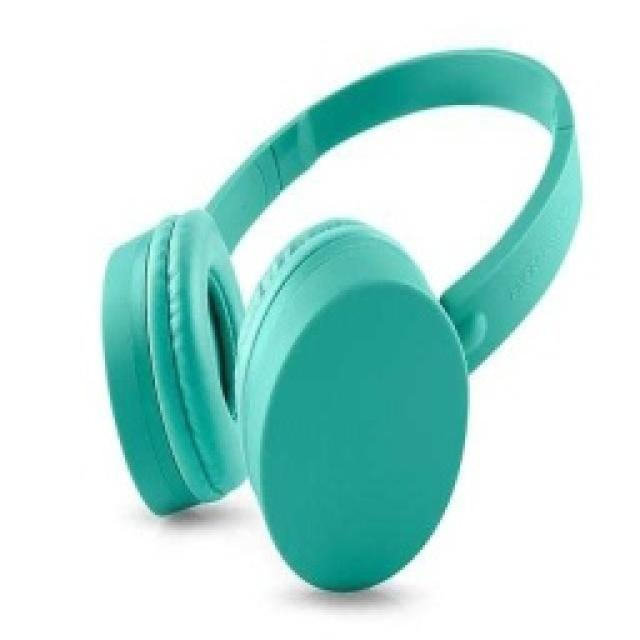headphones: (98, 42, 582, 592)
